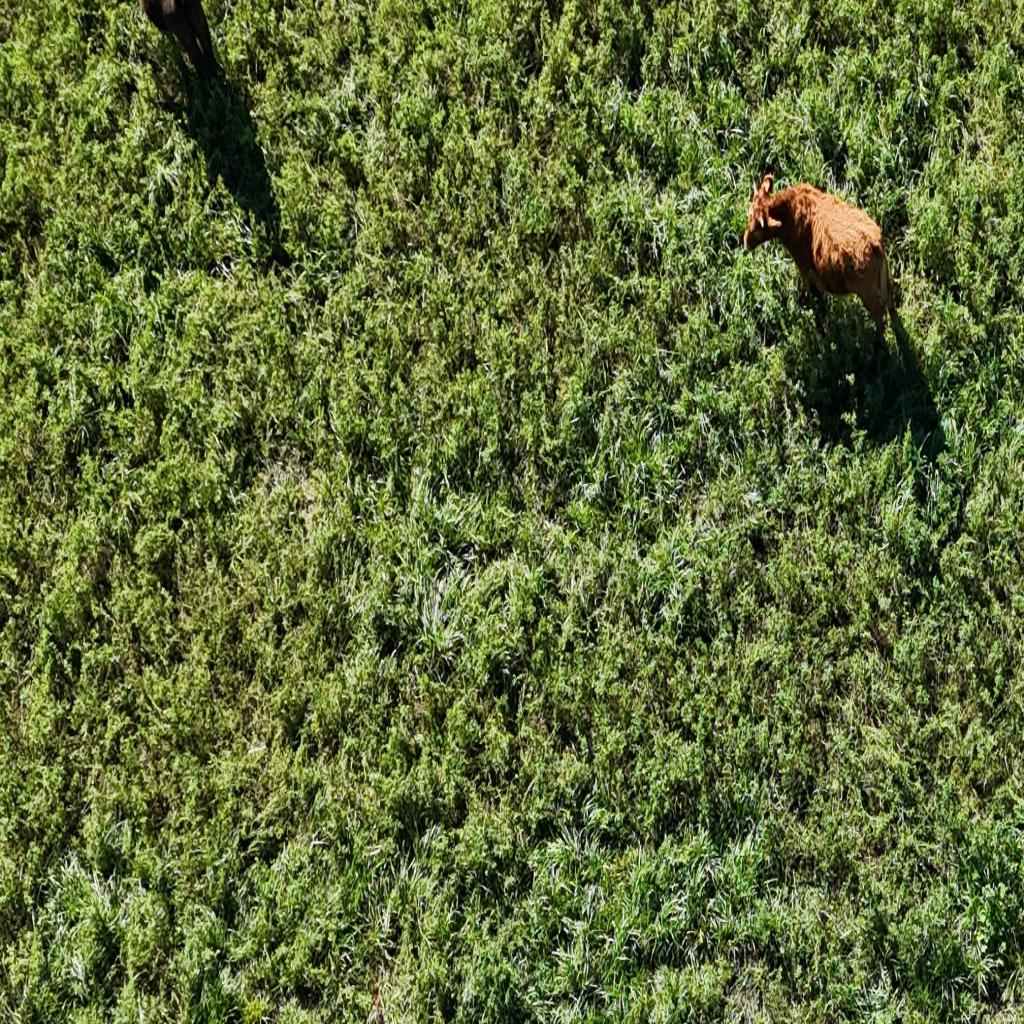cow: (736, 154, 912, 391), (128, 0, 224, 98)
